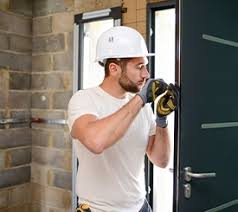casque: (72, 13, 179, 210)
